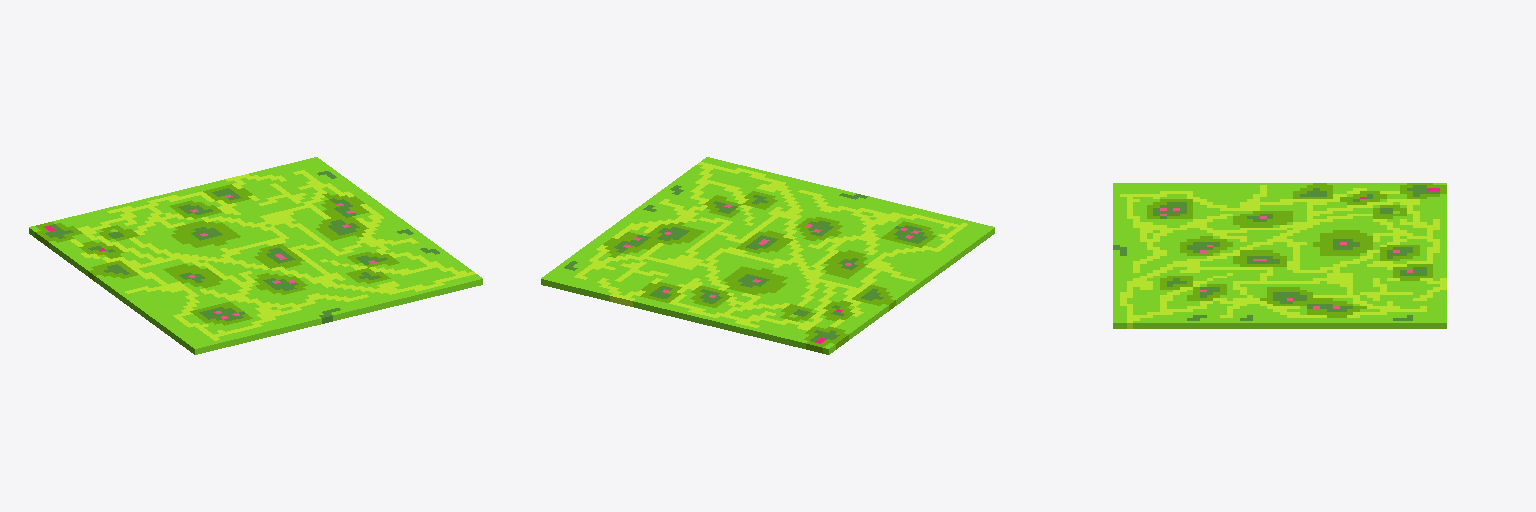
3 renders of one model, left to right at view 1: azimuth 30°, elevation 25°; view 2: azimuth 150°, elevation 25°; view 3: azimuth 270°, elevation 25°, orthographic.
Bounding box in the file's own units: 50 × 1 × 50.
Materials: 1 (1 with a texture image).